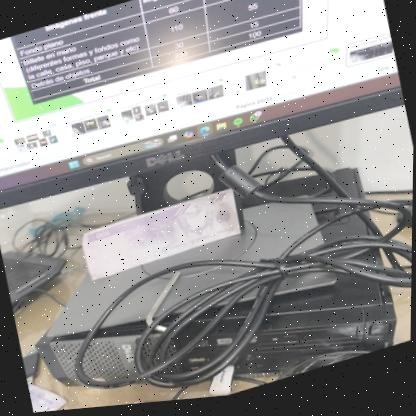one_hundred-back-vef: (79, 191, 243, 285)
